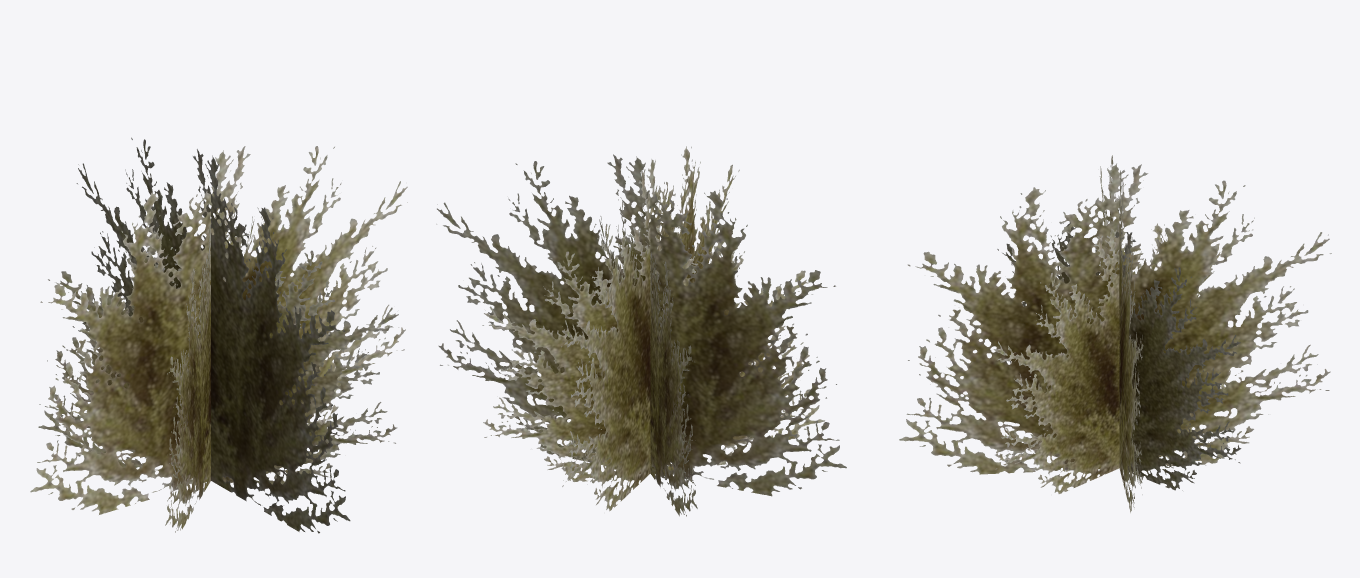
3 renders of one model, left to right at view 1: azimuth 30°, elevation 25°; view 2: azimuth 150°, elevation 25°; view 3: azimuth 270°, elevation 25°, orthographic. The views are drawn at different scales.
Bounding box in the file's own units: 1 × 0.8774 × 1.
Materials: 1 (1 with a texture image).
